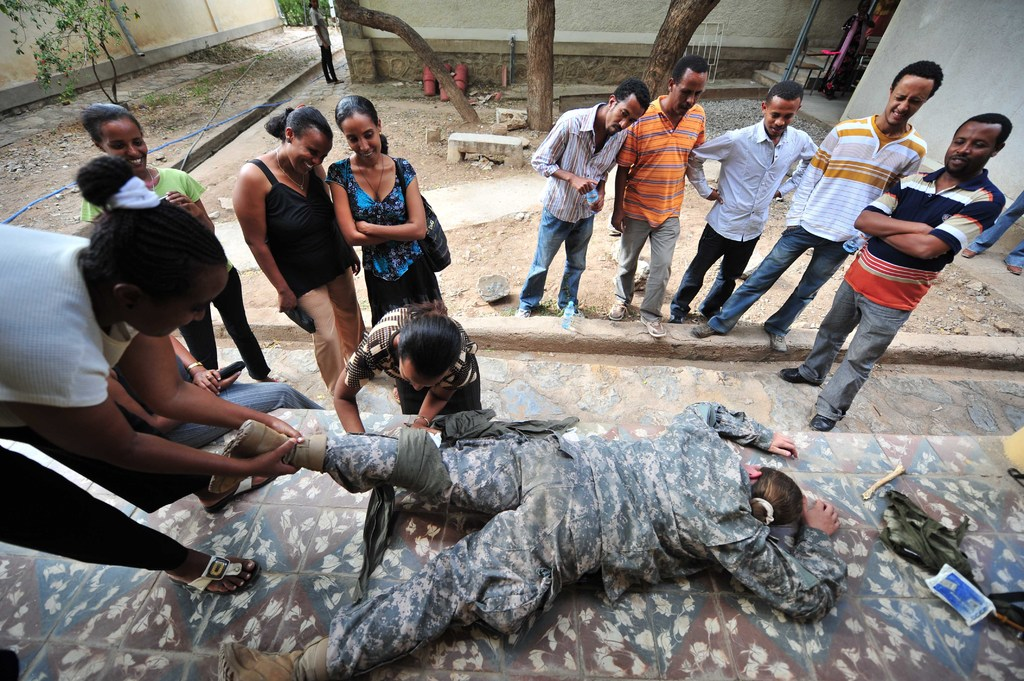Tree: (313, 0, 482, 124), (0, 0, 142, 106), (640, 0, 722, 104), (517, 0, 548, 133)
